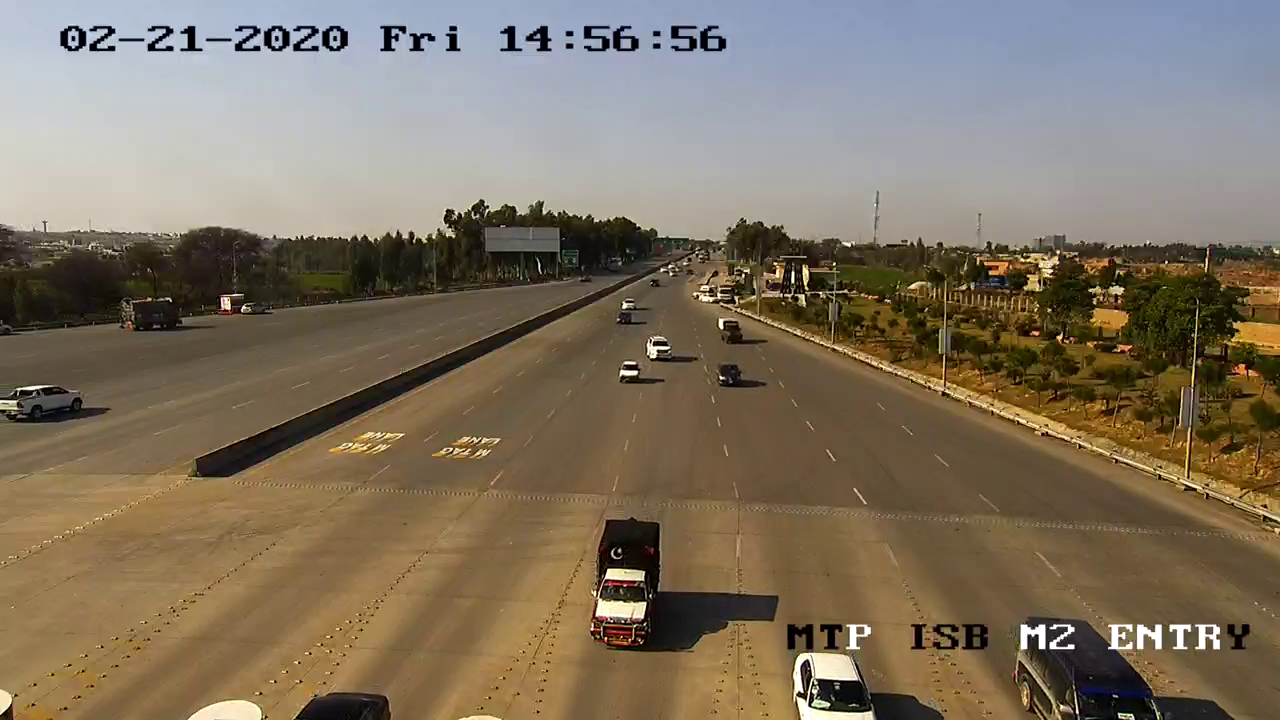f2: (592, 510, 661, 658)
